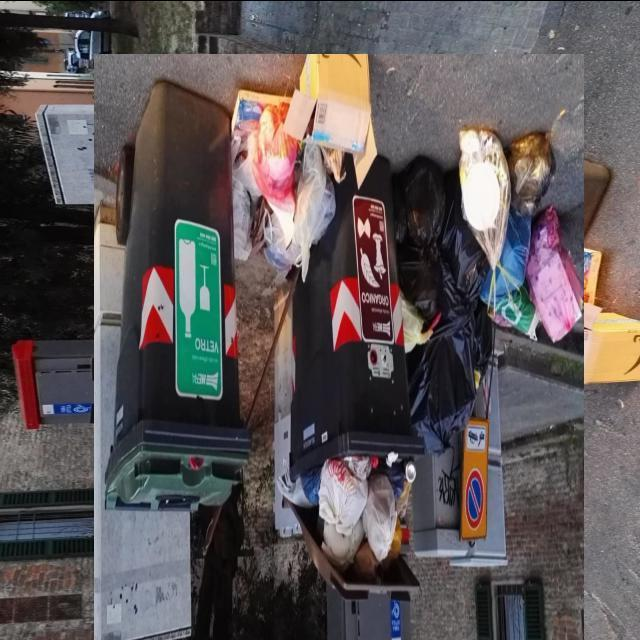Trashbag: (408, 337, 476, 446), (402, 224, 481, 306), (392, 151, 448, 244), (437, 296, 502, 359)
